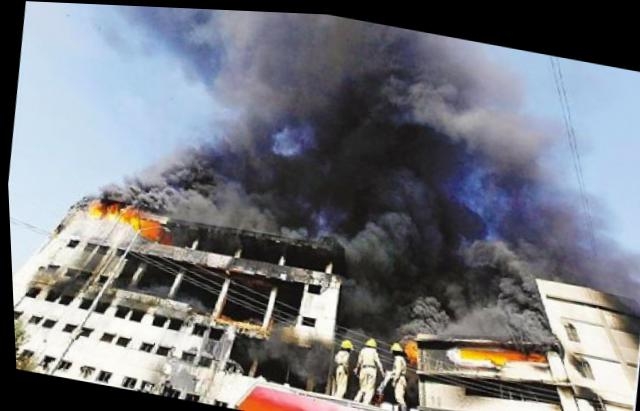fire: (449, 335, 509, 361), (400, 335, 418, 359), (137, 218, 159, 237), (117, 204, 135, 223), (103, 201, 119, 221), (84, 200, 101, 216)
